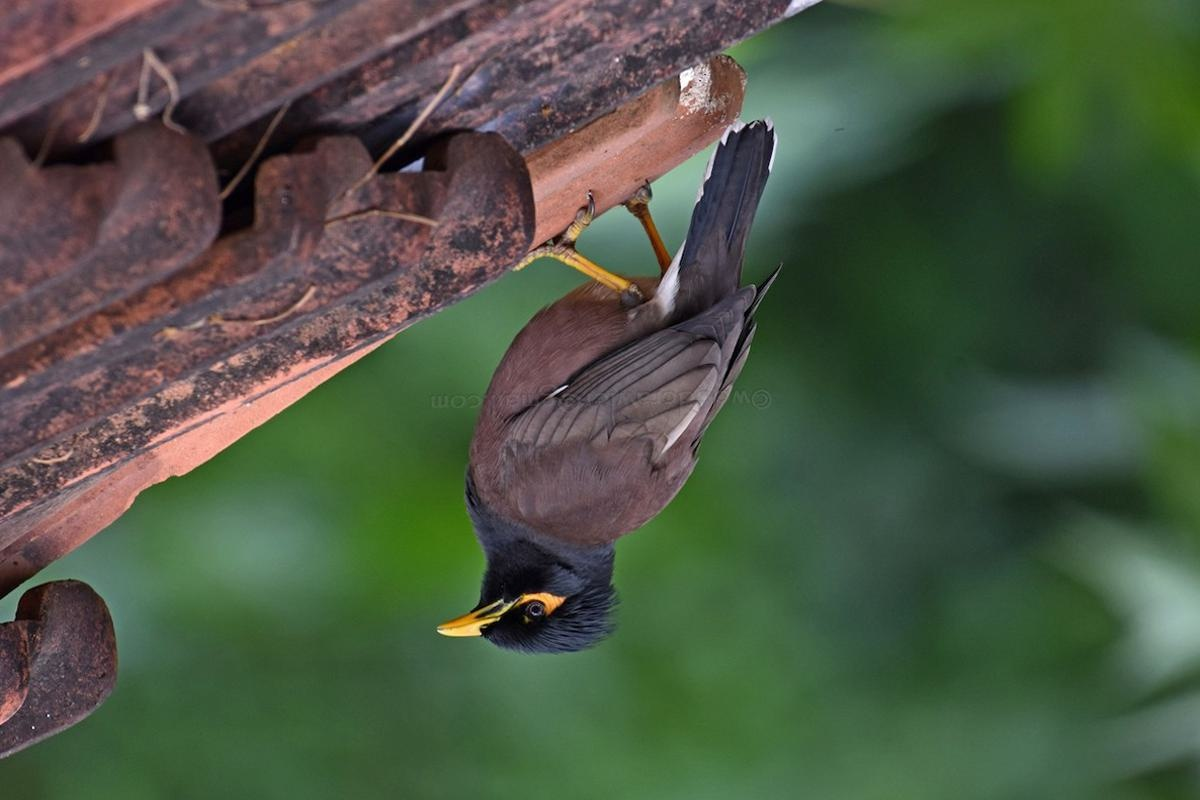myna: (413, 157, 899, 723)
